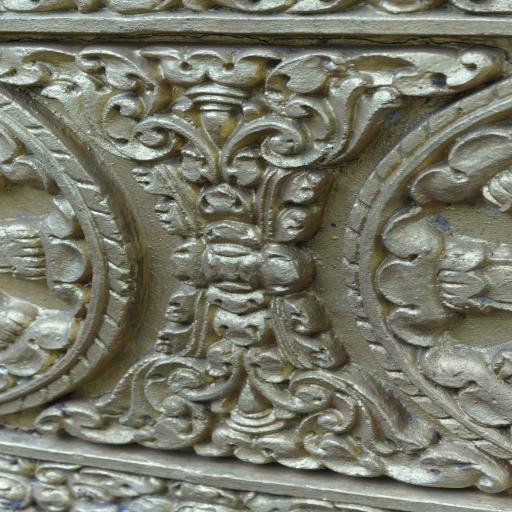hoa: (335, 78, 512, 490), (0, 90, 145, 433), (159, 216, 318, 319)
la: (41, 347, 508, 496), (0, 44, 493, 166)
